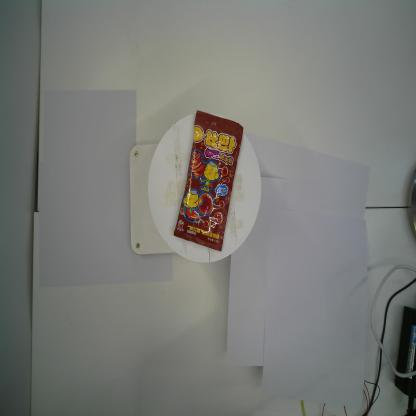Candy: (172, 109, 244, 252)
